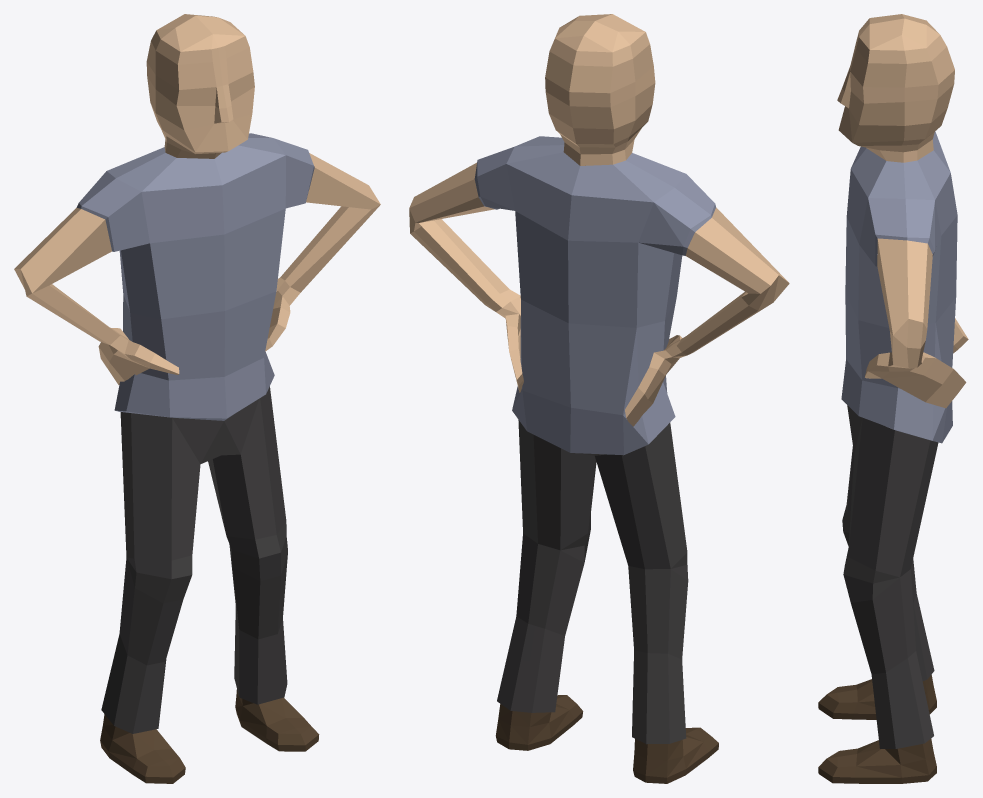
The model's file is Male_Standing_Hips.glb.
3 views of the same model, side by side, from view 1: azimuth 30°, elevation 25°; view 2: azimuth 150°, elevation 25°; view 3: azimuth 270°, elevation 25° (orthographic).
Visible parts, largest first — view 1: Male_Standing_Hips; view 2: Male_Standing_Hips; view 3: Male_Standing_Hips.
Part boxes in pixels (x1,y1,x2,y2): Male_Standing_Hips: [14, 14, 380, 783]; Male_Standing_Hips: [409, 14, 789, 783]; Male_Standing_Hips: [818, 14, 968, 783].
Bounding box in the file's own units: 1.98 × 3.82 × 0.7207.
